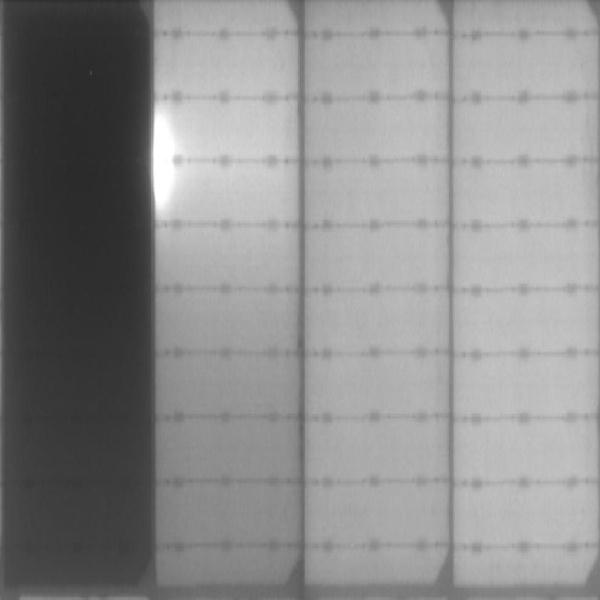hot_spot: (153, 108, 176, 212)
no_electricity: (1, 1, 151, 587)
